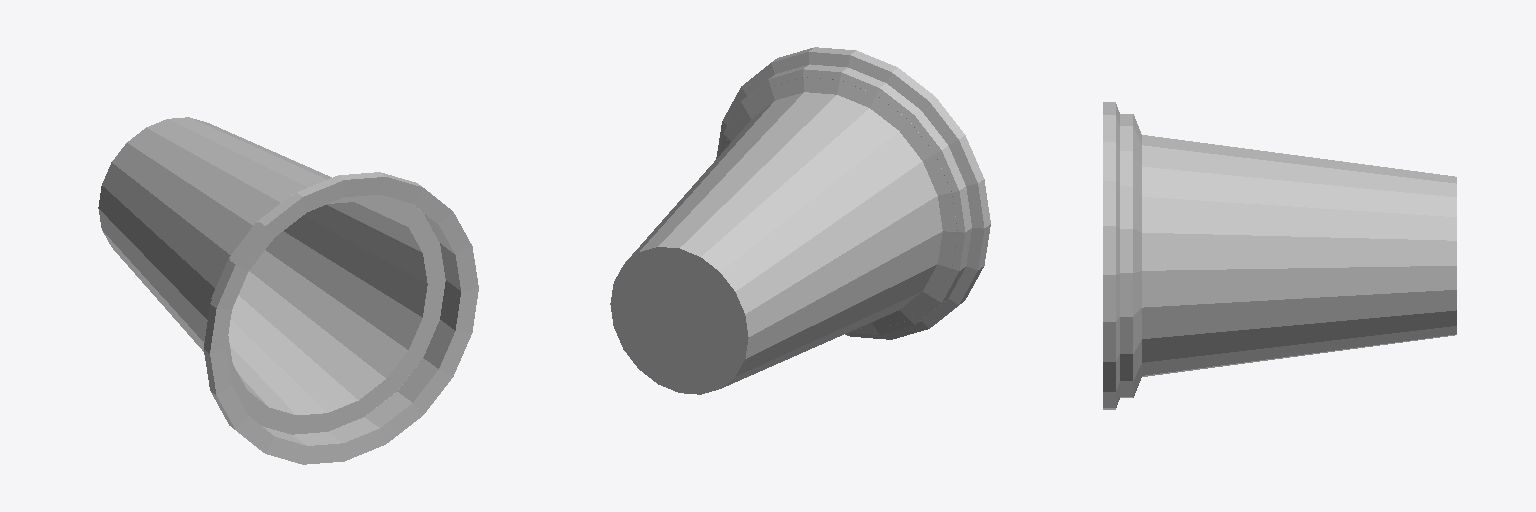
The model's file is cup.obj.
3 renders of one model, left to right at view 1: azimuth 30°, elevation 25°; view 2: azimuth 150°, elevation 25°; view 3: azimuth 270°, elevation 25°, orthographic.
Visible parts, largest first — view 1: cup; view 2: cup; view 3: cup.
Boxes of the visible parts, <box> form: cup: <box>98,117,478,464</box>; cup: <box>610,47,990,394</box>; cup: <box>1103,102,1456,409</box>.
Size of the model in its own units: 10.47 by 10.47 by 11.94.